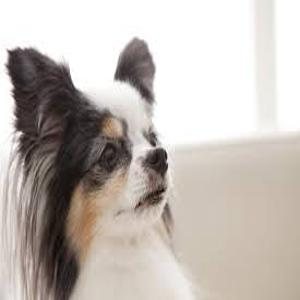yell: (0, 37, 198, 300)
